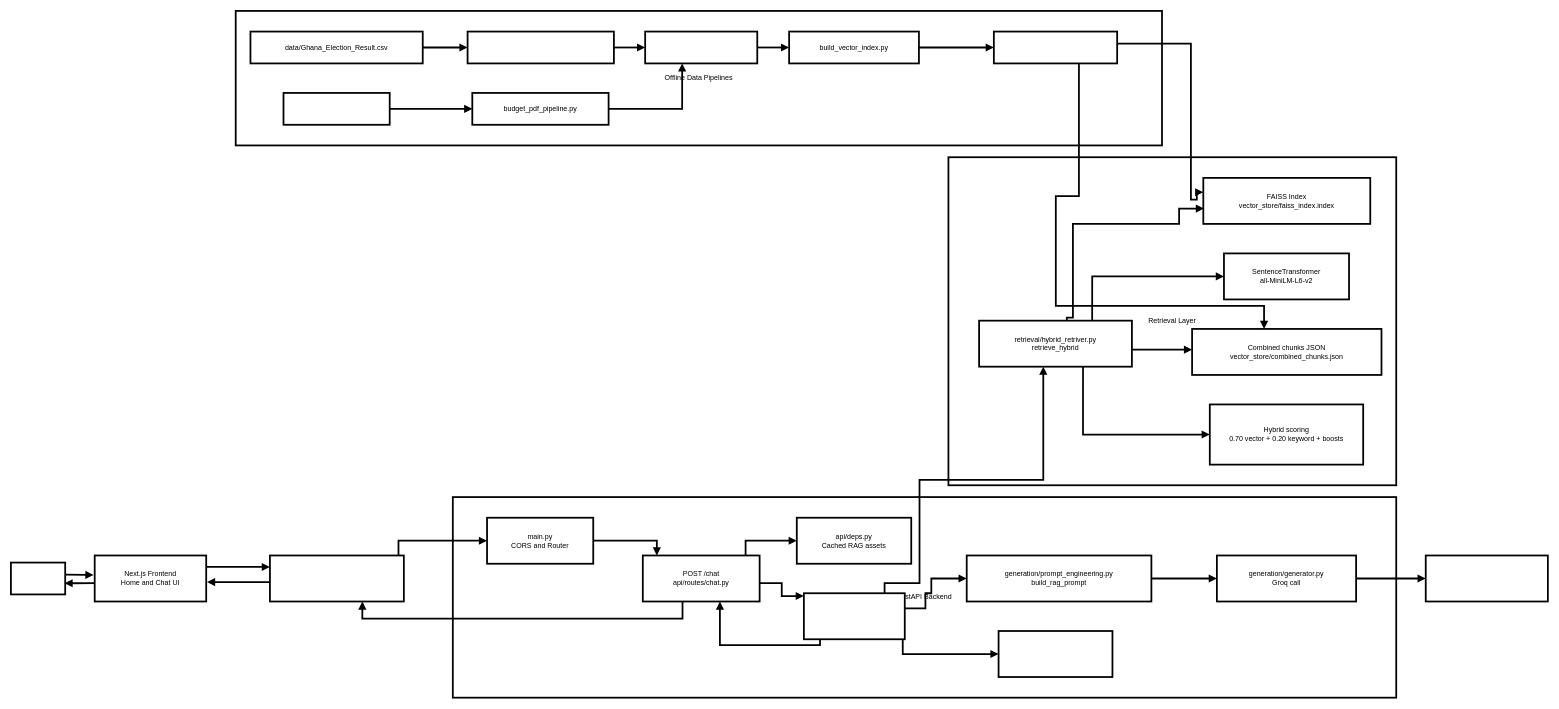
Some shapes in this 1559 by 709 pixel diagram are drawn without their labels. Here are the shapes that lost their labels. From the top down, the centre of each, then its label:
pixel 540 47: election_data_pipeline.py
pixel 701 47: processed outputs
pixel 1055 47: vector_store outputs
pixel 336 108: data/Budget.pdf
pixel 38 578: User
pixel 336 578: frontend/src/lib/api.ts POST /chat
pixel 1486 578: Groq API llama-3.1-8b-instant
pixel 854 616: services/rag.py run_rag_query
pixel 1055 654: logging/rag_csv.py append_rag_log
